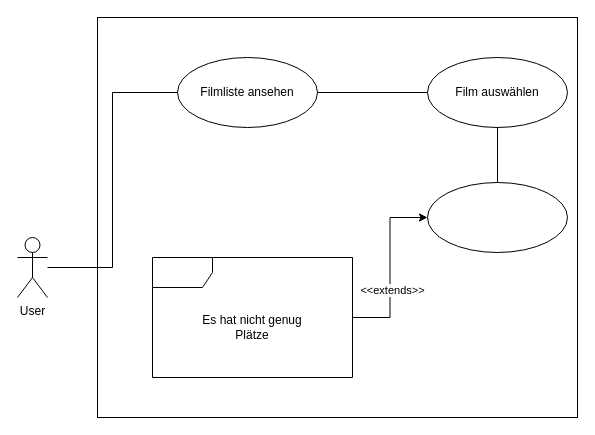
Image size: 595x435. Some labels were removed from this diagram. Each missing label, with the box of its shape:
condition: (152, 256, 352, 378)
Tickets reservieren: (426, 182, 568, 252)
